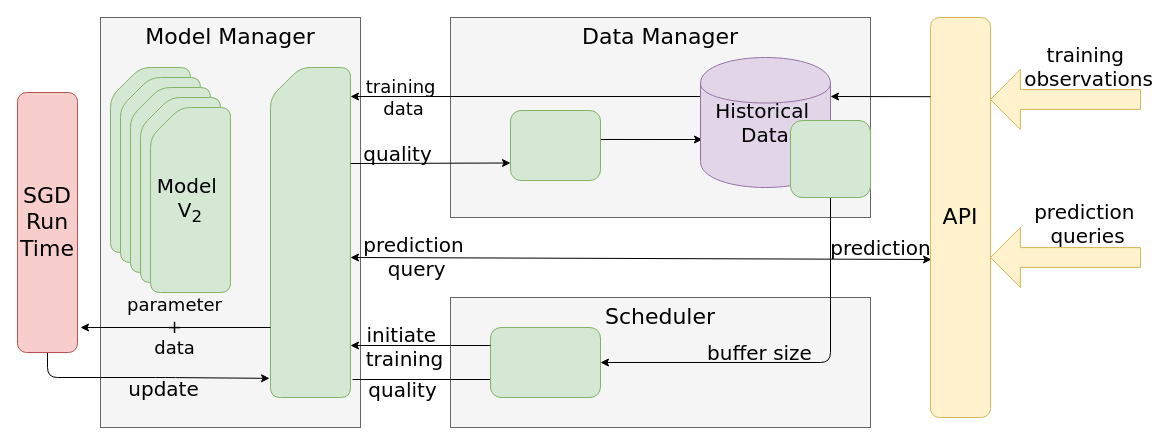
The diagram is 1176 pixels wide and 445 high, and some of its shapes have lost their labels. Each missing label, with the centre of its shape:
"Active Model" goes at [310,232].
"Buffer" goes at [830,159].
"Sampling Tuner" goes at [555,145].
"Scheduling Tuner" goes at [545,362].
